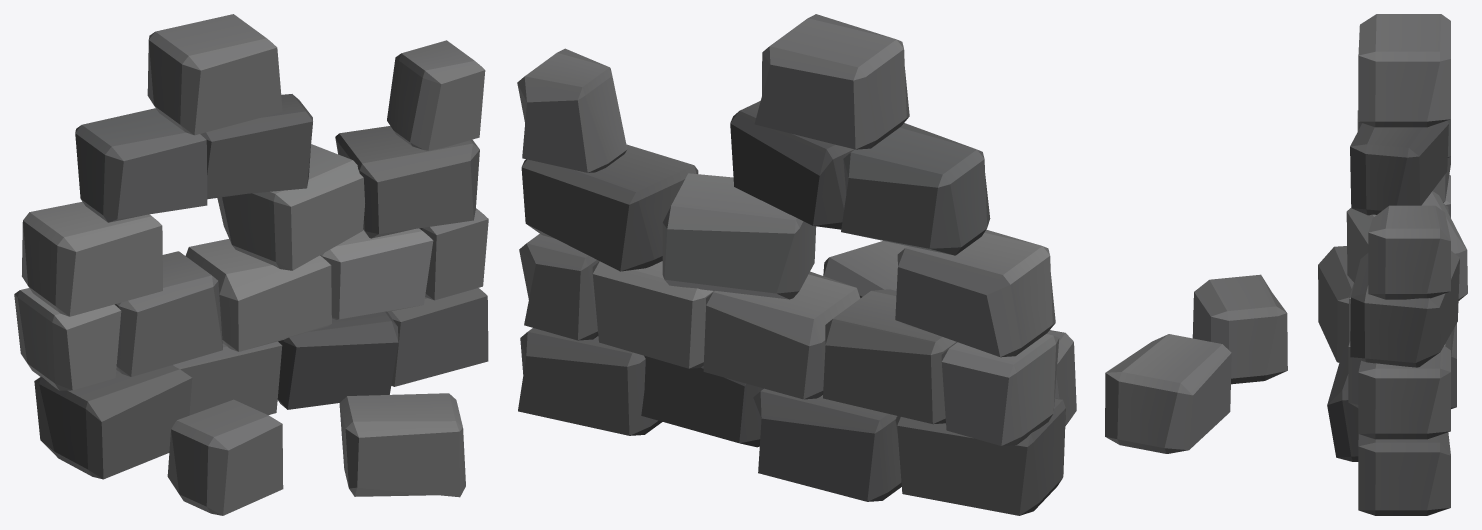
File: Fence_Rock_F.fbx
The picture shows the model from 3 angles, left to right: view 1: azimuth 30°, elevation 25°; view 2: azimuth 150°, elevation 25°; view 3: azimuth 270°, elevation 25°; orthographic projection. The views are drawn at different scales.
Parts seen in each view (by area): view 1: Fence_Rock_F; view 2: Fence_Rock_F; view 3: Fence_Rock_F.
Part boxes in pixels (x1,y1,x2,y2): Fence_Rock_F: [14, 14, 488, 515]; Fence_Rock_F: [517, 14, 1076, 515]; Fence_Rock_F: [1105, 14, 1467, 515].
Bounding box in the file's own units: 224 × 186 × 167.
